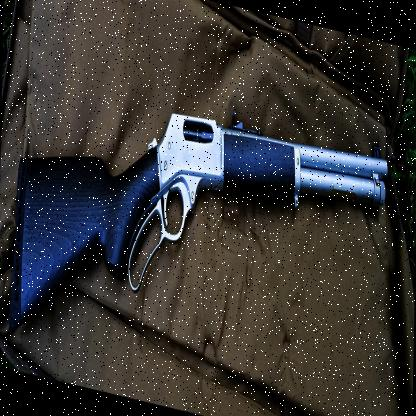rifle: (9, 57, 388, 400)
